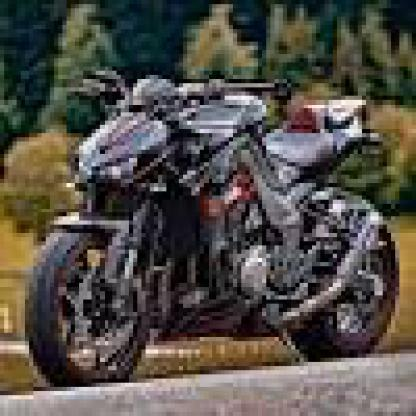Motorcycle: (17, 53, 407, 388)
